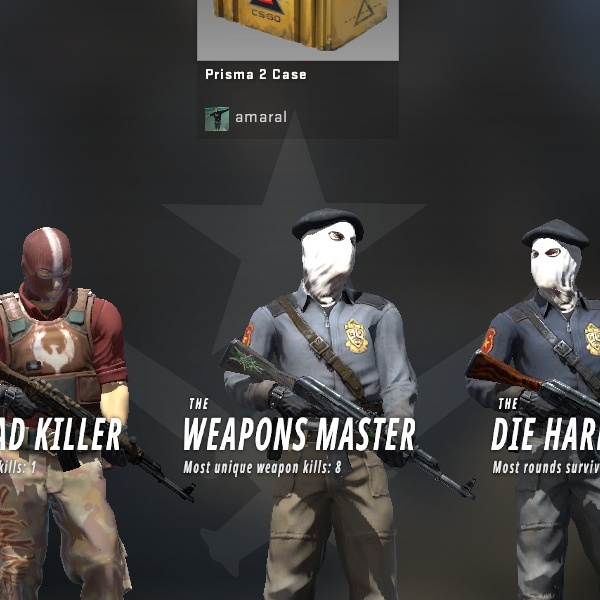t_body: (0, 199, 172, 600)
t_head: (1, 211, 99, 316)
